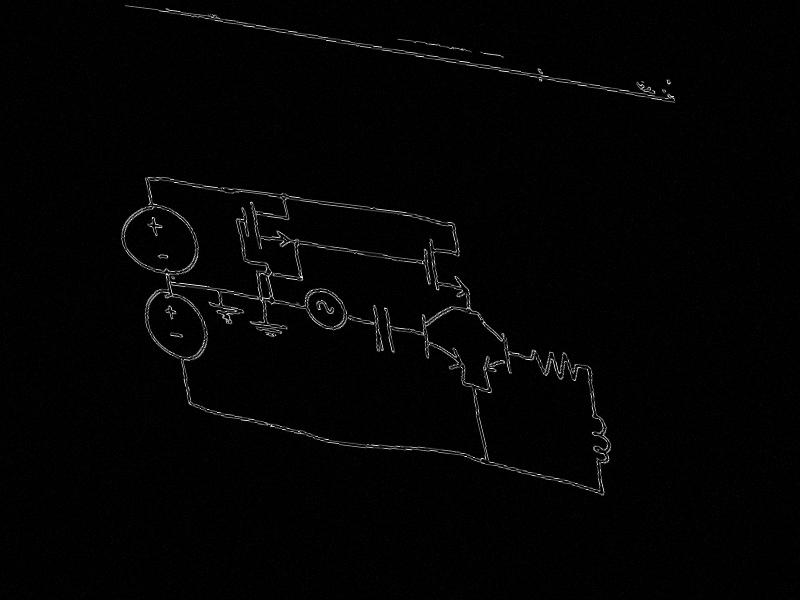-: (168, 331, 185, 340), (156, 252, 171, 261)
